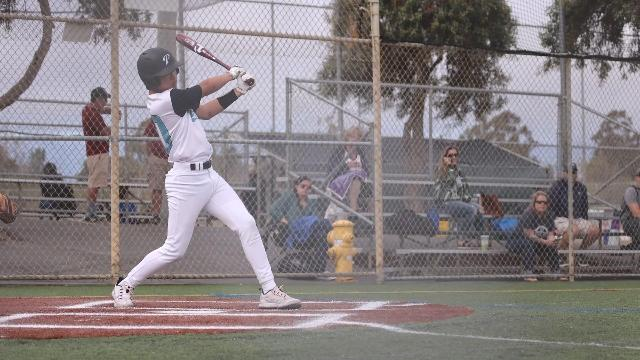baseball bat: (173, 32, 234, 72)
